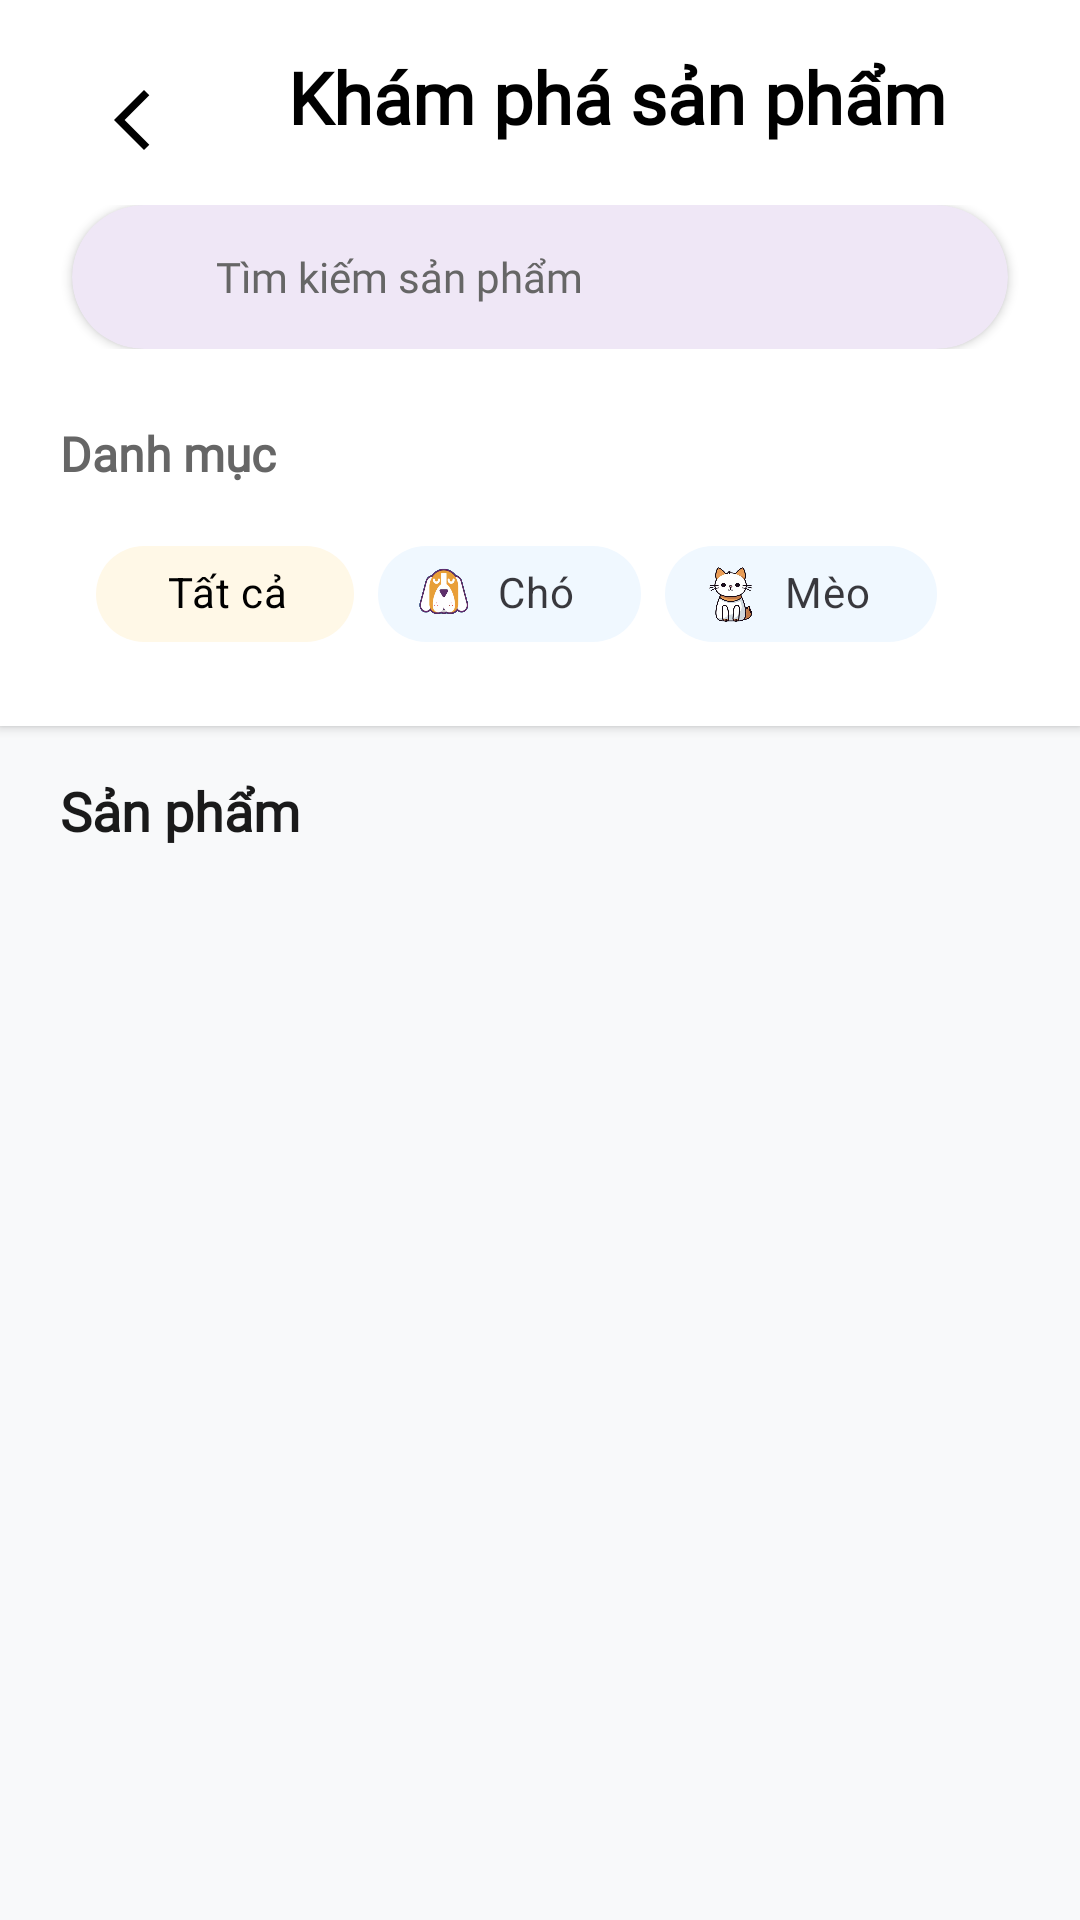

Point at icon controls on the screen. Image size 1080px x 1920px, points as [x,y].
Quay lại: [131,120]
